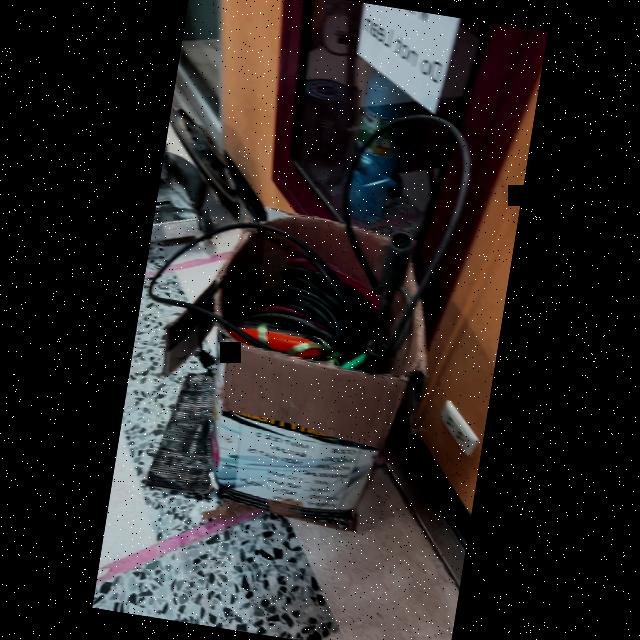cardboard_box: (176, 196, 447, 534)
